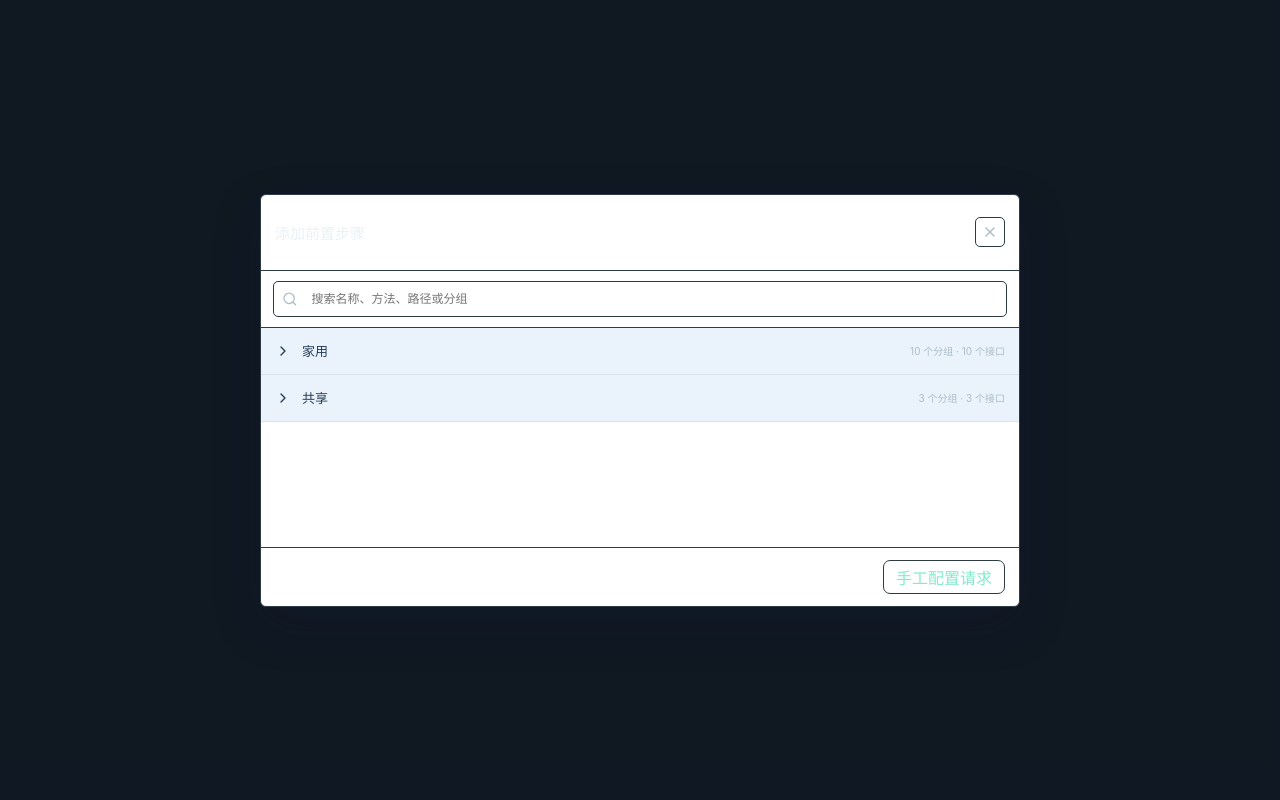
EndpointPicker › consolidates a large step catalog by business before folder groups
The image size is (1280, 800).
Expected: the button with test id "endpoint-picker-domain-共享" shows "3 个分组 · 3 个接口", [261, 374, 1019, 420]
Click the button with test id "endpoint-picker-domain-家用".
click(958, 351)  # box [261, 328, 1019, 374]
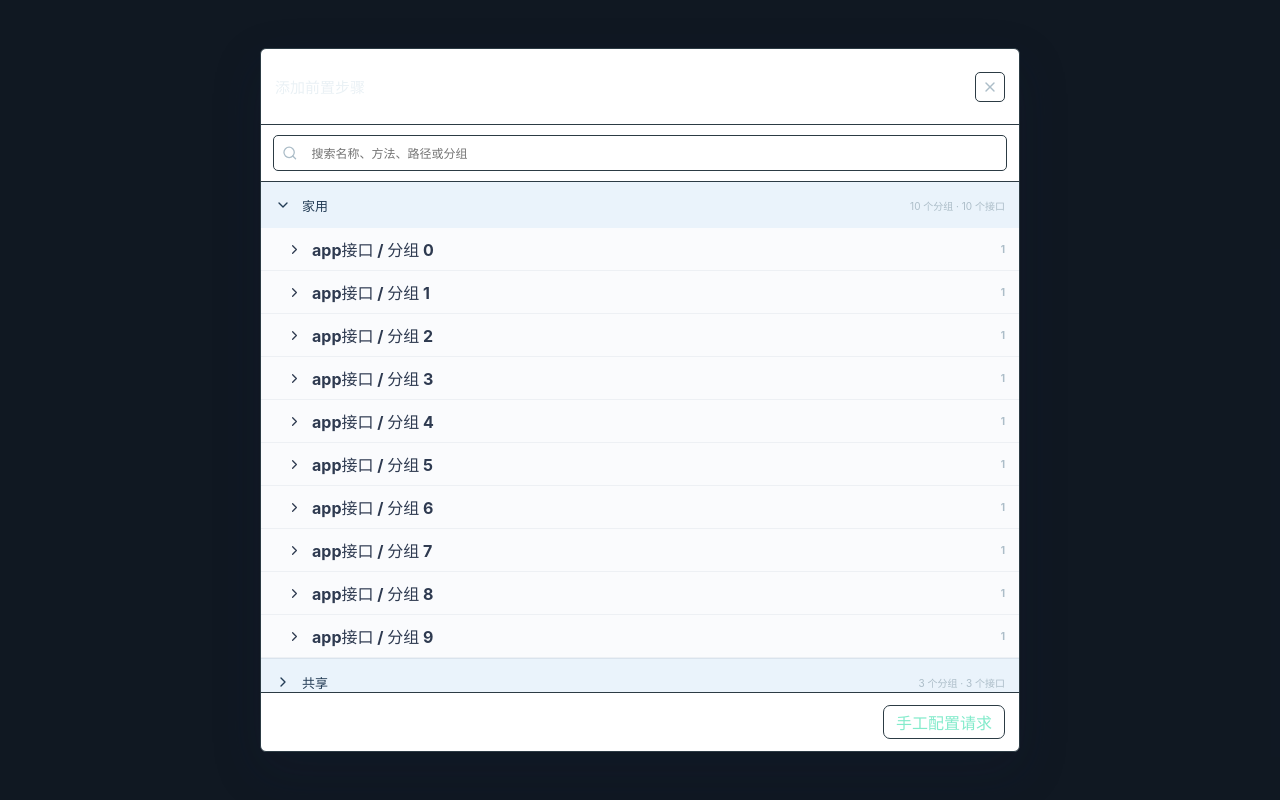
Result: the button with test id "endpoint-picker-group-家用业务 / app接口 / 分组 0" shows "app接口 / 分组 0" at [261, 228, 1019, 270]
Type "共享步骤 2" into the field with test id "endpoint-picker-search" showing "搜索名称、方法、路径或分组".
click(651, 153); type("共享步骤 2")  # box [304, 136, 998, 170]
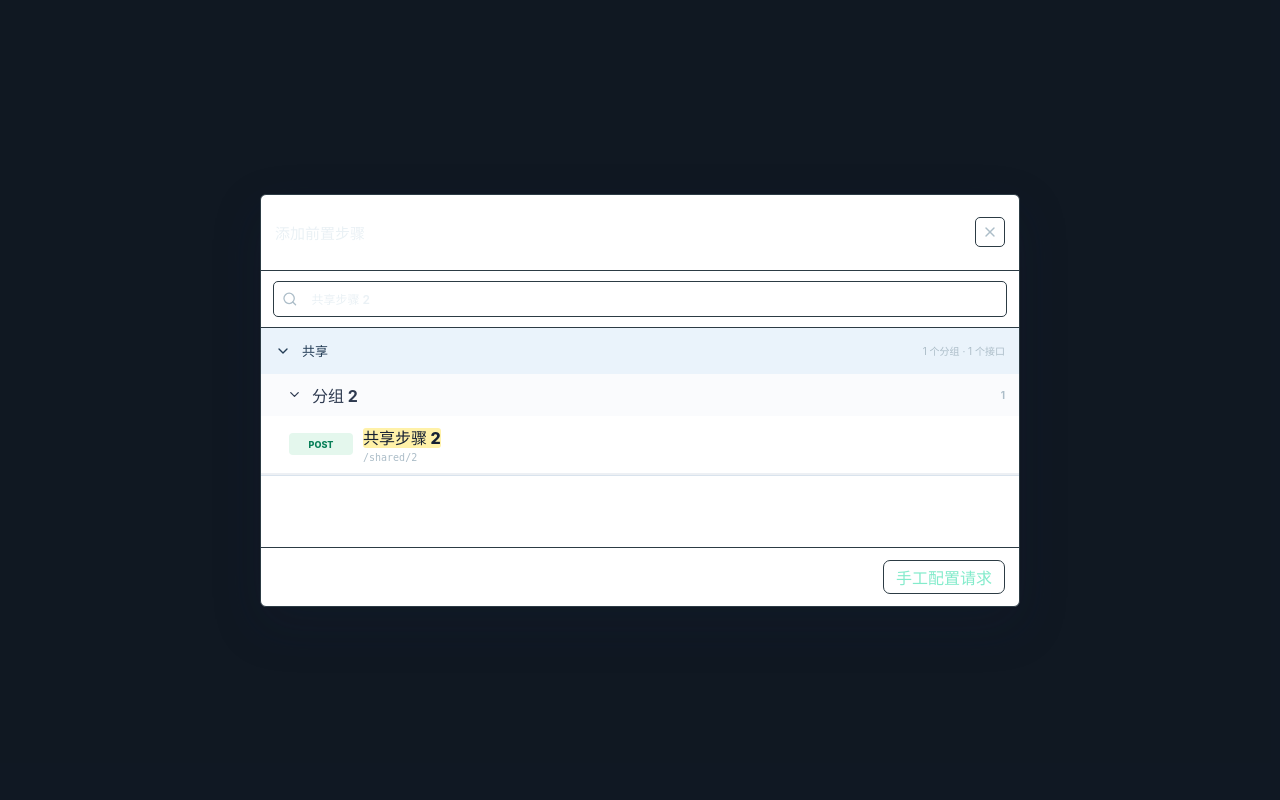
Result: the text "共享步骤 2" is shown at [363, 428, 441, 448]
Result: the text "/shared/2" is shown at [363, 452, 417, 463]
